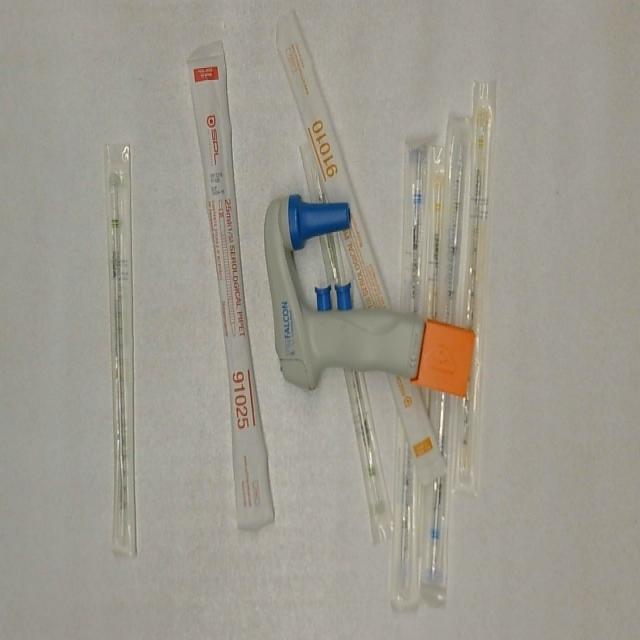Pipette Controller: (261, 190, 477, 402)
Serelogical Pipet 1 mL: (454, 78, 502, 496), (426, 141, 448, 326)
Serelogical Pipet 10 mL: (274, 9, 448, 484)
Serelogical Pipet 2 mL: (297, 141, 397, 544), (101, 134, 138, 564)
Serelogical Pipet 25 mL: (185, 39, 278, 542)
Serelogical Pipet 5 mL: (419, 112, 476, 595), (389, 139, 430, 610)
